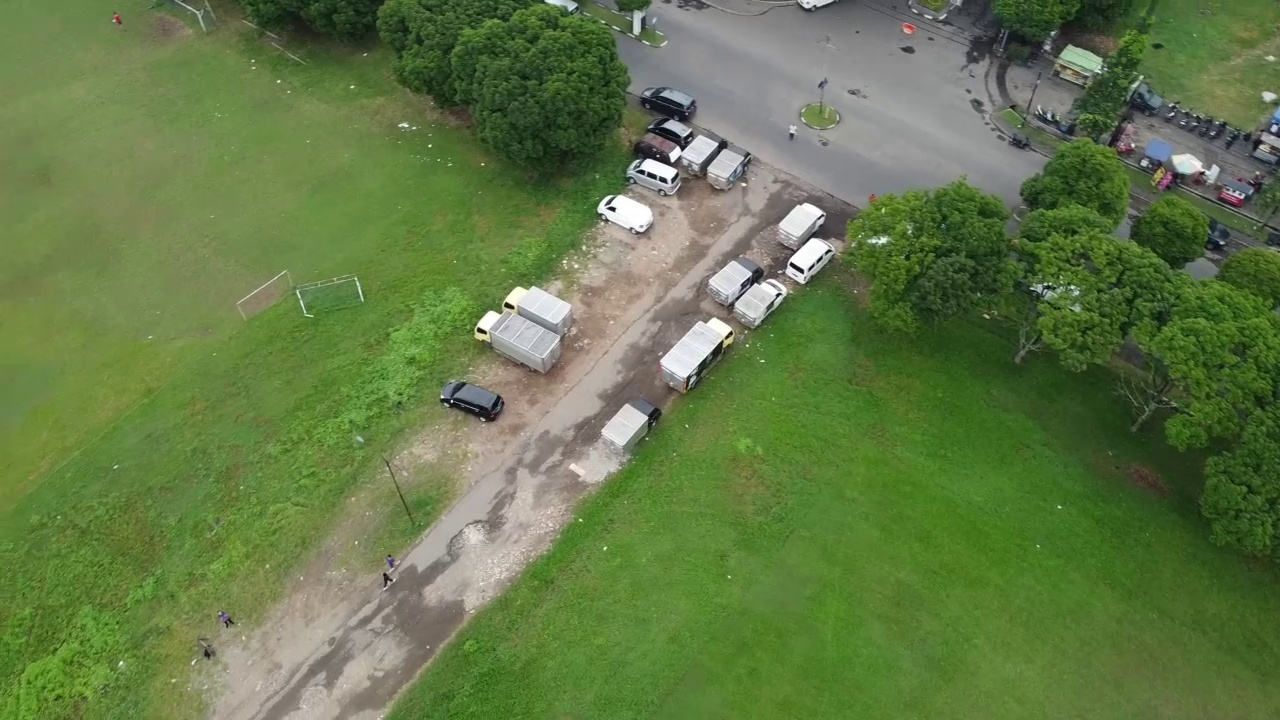mobil: (594, 186, 659, 241), (441, 376, 507, 428), (622, 154, 686, 199), (639, 77, 701, 122), (785, 236, 839, 286), (634, 129, 683, 166), (646, 113, 697, 145)
